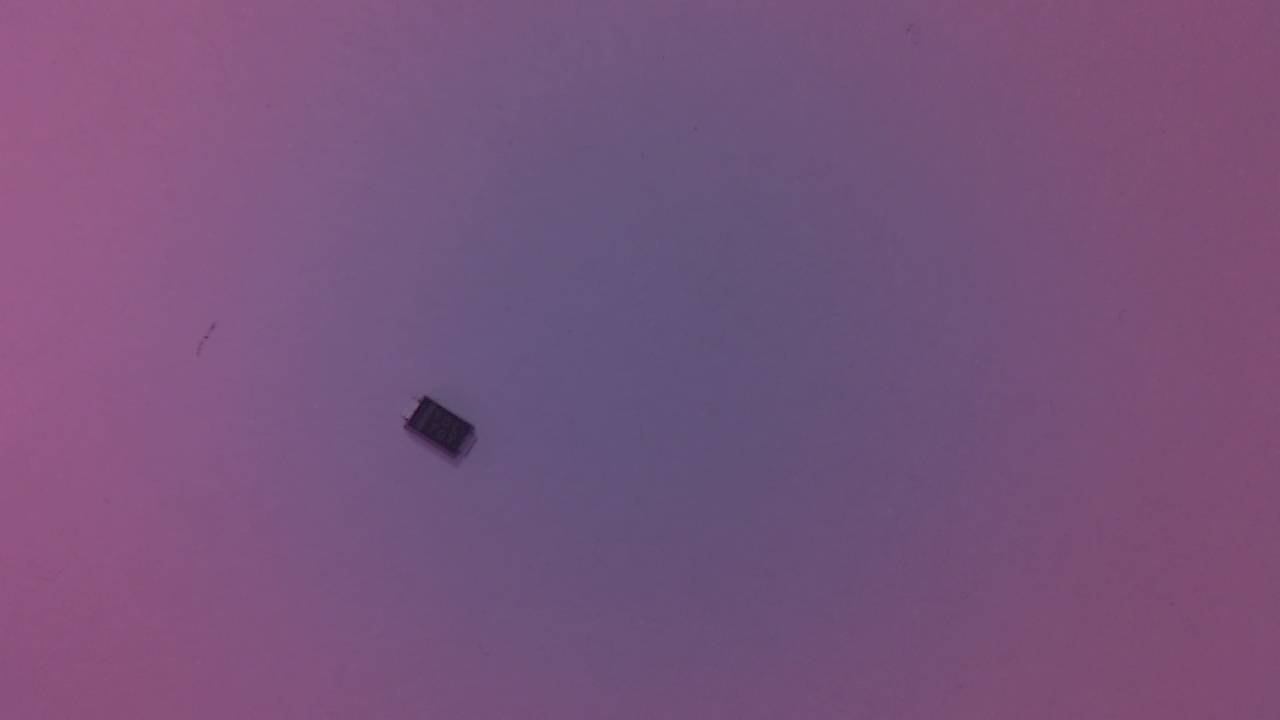Diode: (404, 401, 484, 473)
